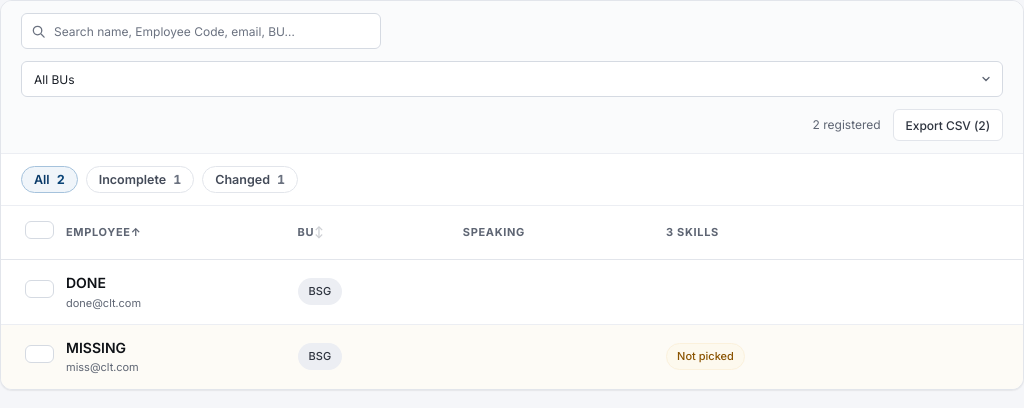
Registrations quick filters (slotted) › "Incomplete" chip filters to incomplete rows only
The image size is (1024, 408).
expect the text "DONE" is shown: met, box [66,274,106,291]
Click the button "Incomplete 1".
click(140, 180)  # box [86,166,194,193]
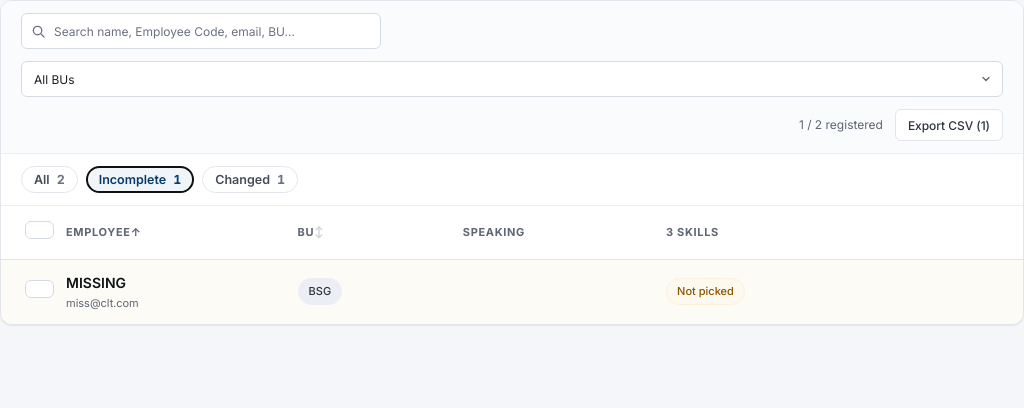
expect the text "MISSING" is shown: met, box [66,274,126,291]
expect the text "DONE" is gone: met
